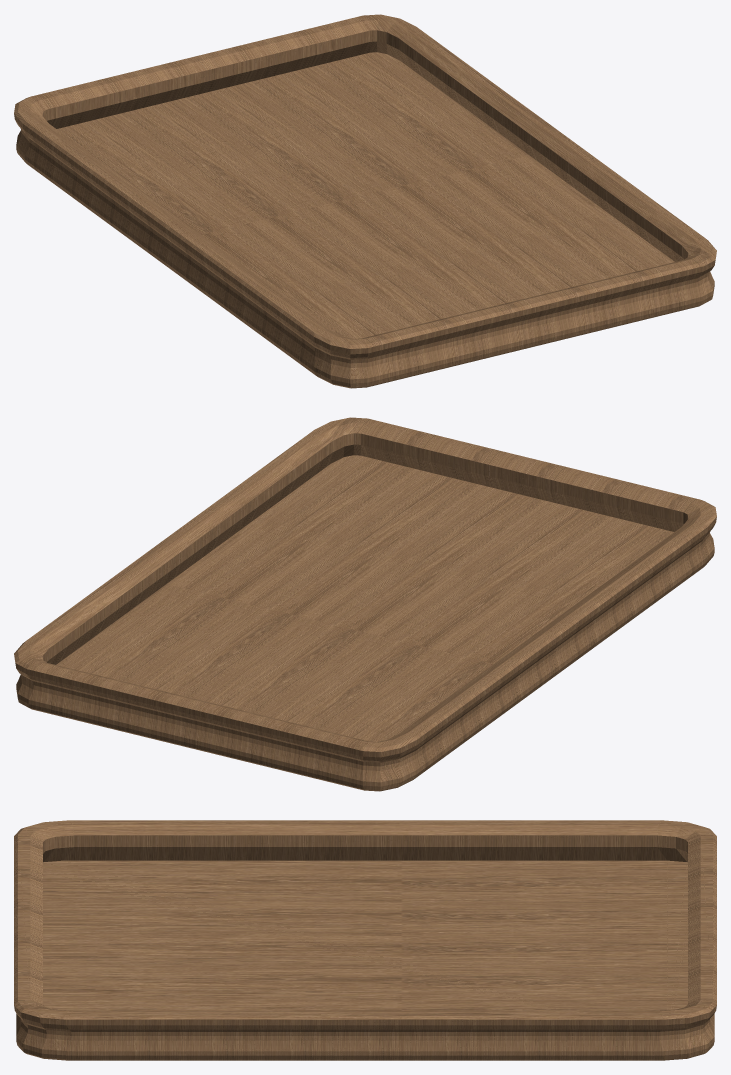
File: Biljart_edge.obj
The picture shows the model from 3 angles, top to bottom: view 1: azimuth 30°, elevation 25°; view 2: azimuth 150°, elevation 25°; view 3: azimuth 270°, elevation 25°; orthographic projection. The views are drawn at different scales.
Visible parts, largest first — view 1: Rand_Cube.003; view 2: Rand_Cube.003; view 3: Rand_Cube.003.
Part boxes in pixels (box(x1,y1,x2,y2)): Rand_Cube.003: box(14, 14, 716, 388); Rand_Cube.003: box(14, 417, 716, 791); Rand_Cube.003: box(14, 820, 716, 1060).
Size of the model in its own units: 4.1 by 0.4427 by 6.15.
1 material, 1 textured.
